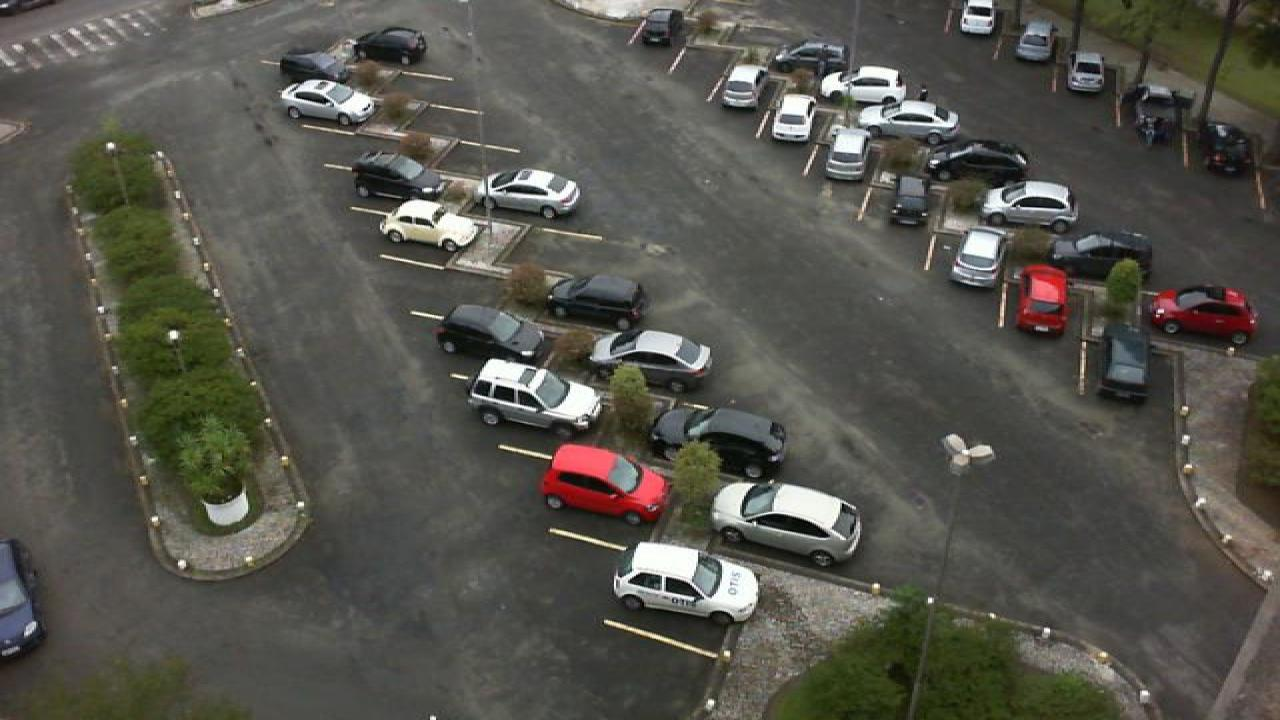Car: (708, 480, 866, 568), (612, 542, 762, 624), (464, 356, 604, 438), (540, 444, 674, 526), (650, 402, 788, 481), (586, 328, 714, 393), (434, 304, 554, 366), (1142, 284, 1258, 346), (550, 272, 650, 329), (1048, 231, 1154, 284), (1094, 317, 1156, 404), (980, 180, 1080, 232), (482, 168, 582, 219), (380, 198, 478, 250), (922, 138, 1032, 184), (352, 152, 448, 201), (278, 79, 376, 127), (860, 102, 958, 146), (1016, 263, 1072, 335), (1132, 82, 1192, 146), (820, 65, 908, 108), (948, 226, 1006, 289), (278, 47, 354, 87), (770, 40, 850, 78), (352, 26, 428, 65), (1204, 122, 1256, 178), (822, 127, 870, 181), (886, 174, 930, 229), (770, 94, 814, 142), (720, 64, 762, 109), (636, 7, 682, 46), (1014, 20, 1054, 62), (1066, 53, 1108, 93), (958, 0, 996, 36)
